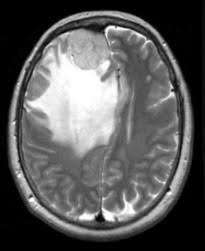Tumour-Meningioma: (46, 52, 126, 175)
